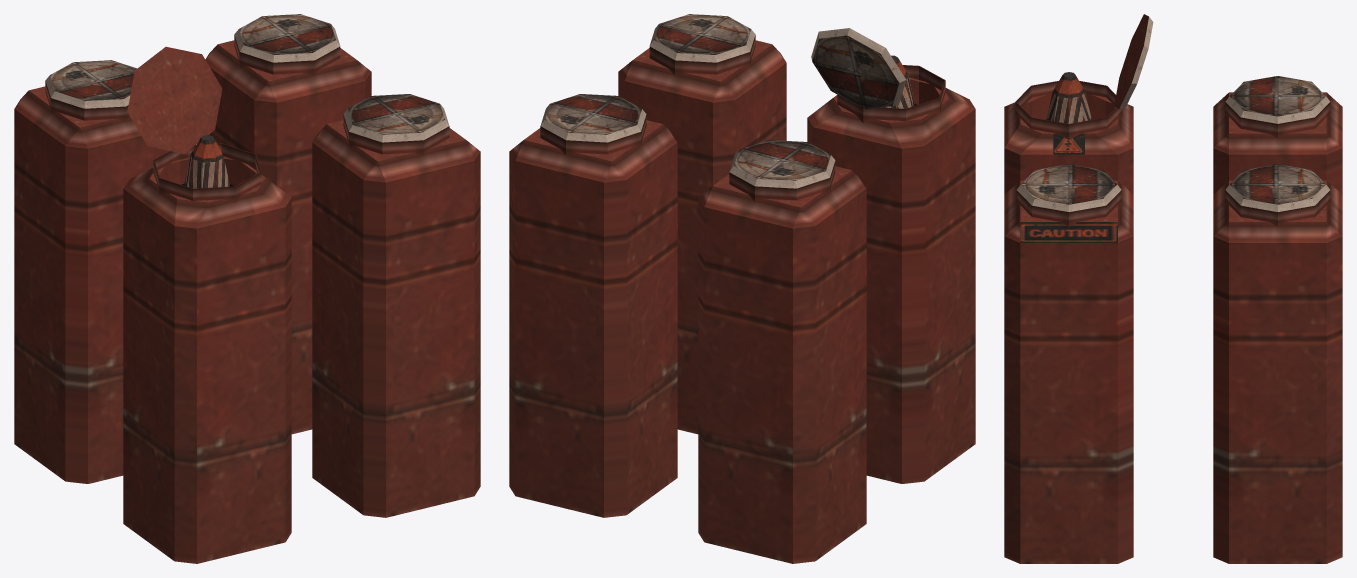
File: silos.dae
3 views of the same model, side by side, from view 1: azimuth 30°, elevation 25°; view 2: azimuth 150°, elevation 25°; view 3: azimuth 270°, elevation 25° (orthographic). The views are drawn at different scales.
Visible parts, largest first — view 1: silos; view 2: silos; view 3: silos.
Part boxes in pixels (x1,y1,x2,y2): silos: (14, 14, 480, 563); silos: (509, 14, 975, 563); silos: (1004, 14, 1342, 563).
Bounding box in the file's own units: 32.4 × 32.4 × 45.64.
